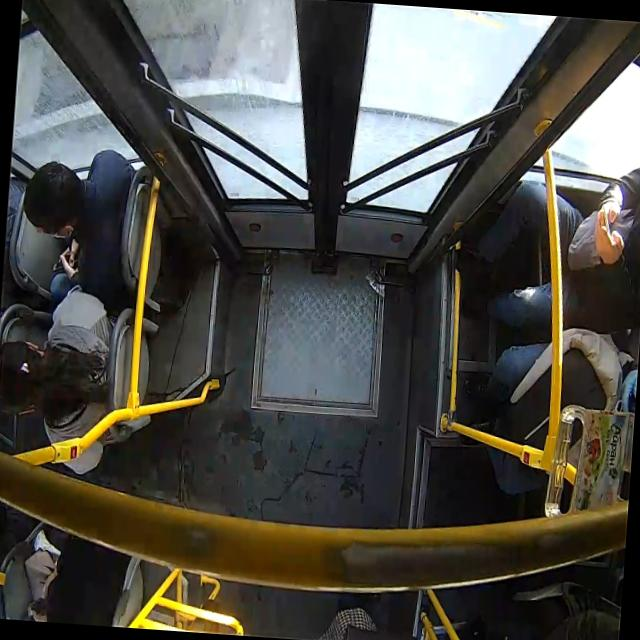bus-door: (24, 0, 640, 272)
